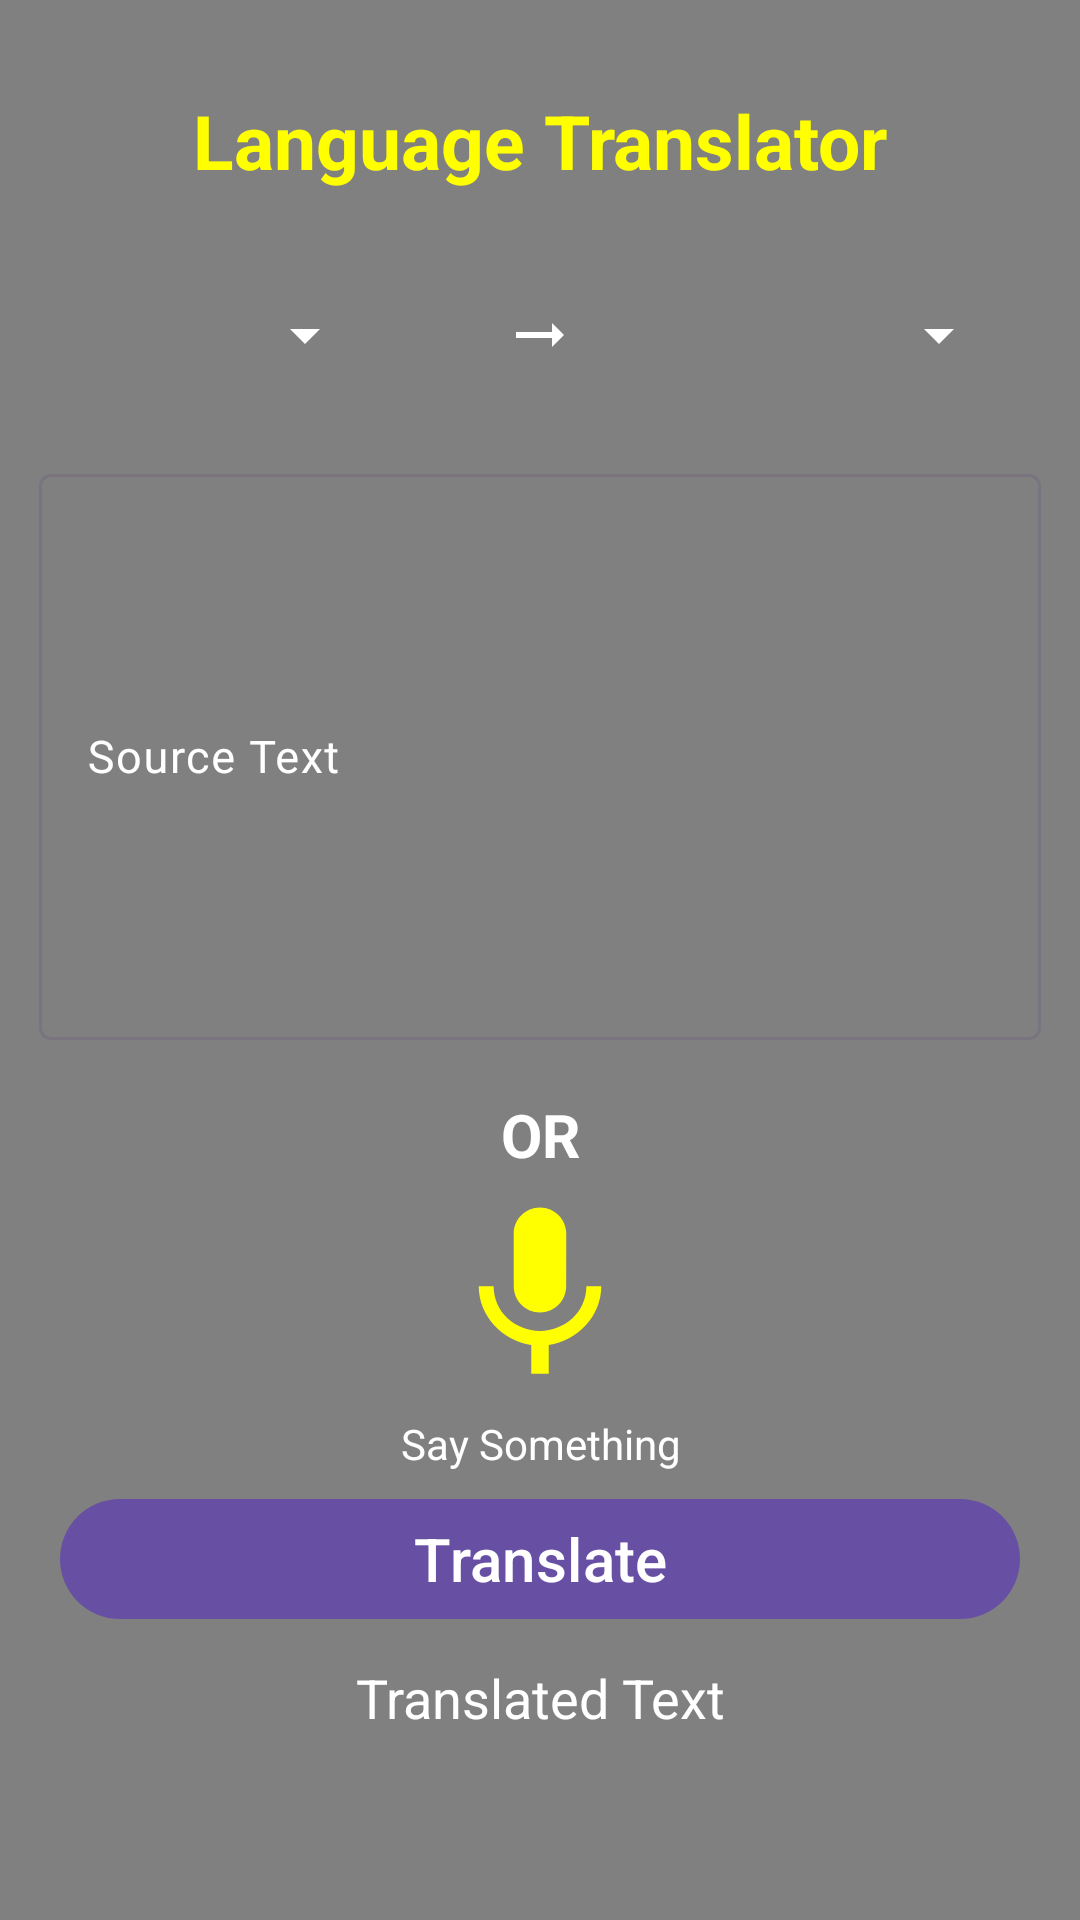

Icon click points for this 1080 x 1920 phone screenshot, format point (x, y):
arrow right: point (540, 335)
mic: point (540, 1290)
